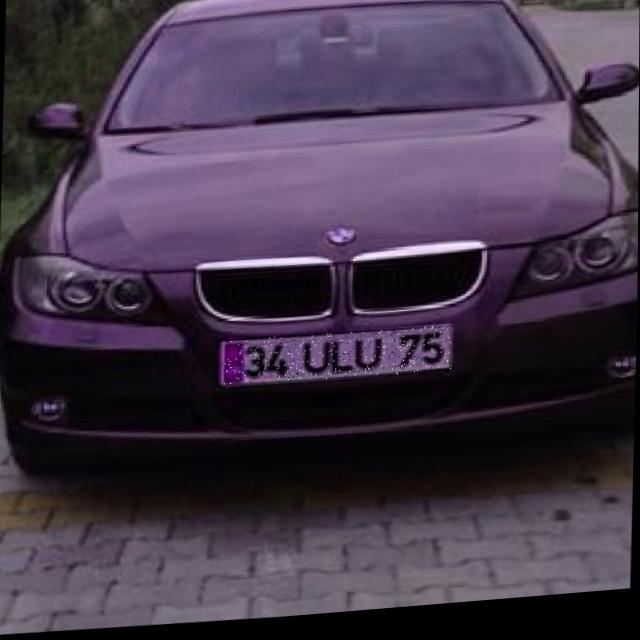license_plate: (224, 328, 452, 393)
